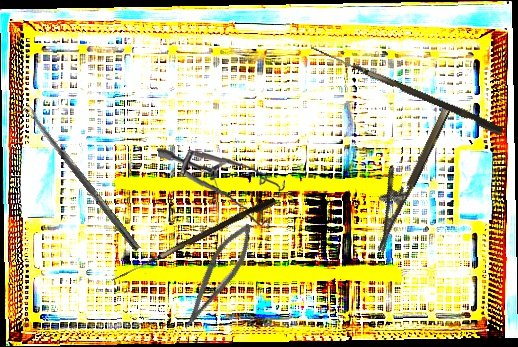Hook Surgical: (307, 46, 505, 136), (111, 193, 277, 290)
Micro Scissor: (178, 216, 261, 334)
Needle Holder: (354, 96, 454, 253)
Speculum: (157, 140, 288, 236)
Surgical Spoon: (23, 104, 142, 252)
